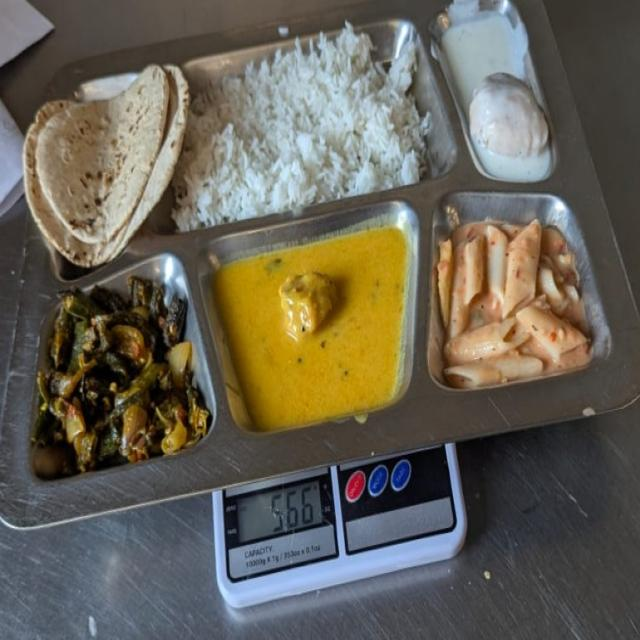Bhindi Masala: (36, 274, 209, 461)
Chapati: (24, 62, 192, 266)
Dahi Bhalle: (442, 16, 553, 178)
Kadhi: (219, 250, 409, 404)
Pasta: (431, 199, 595, 377)
White Rice: (193, 26, 433, 185)
